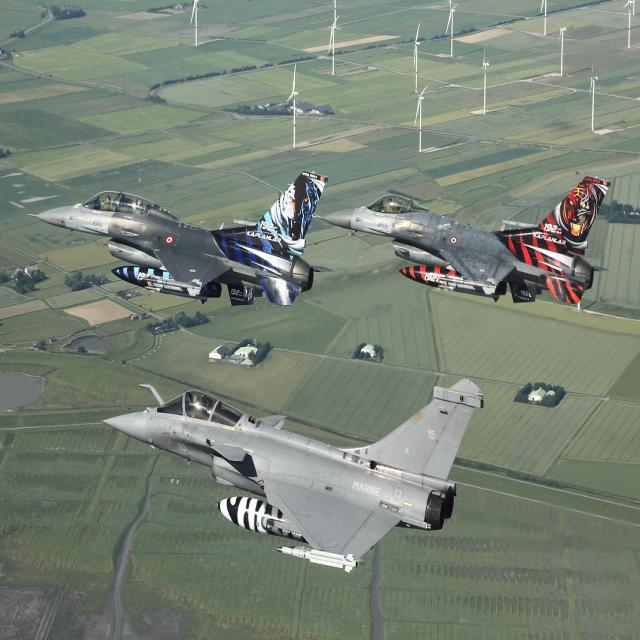MIL_Plane: (101, 377, 484, 574), (25, 170, 329, 305), (313, 176, 611, 304)
